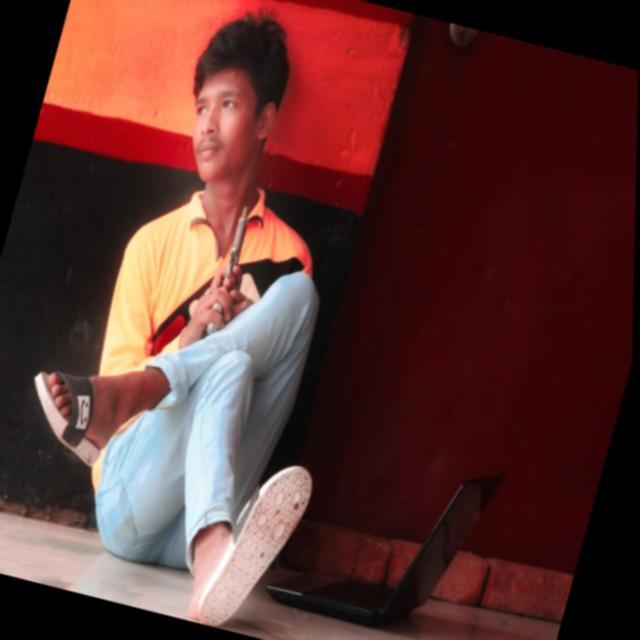weapon: (205, 203, 256, 339)
